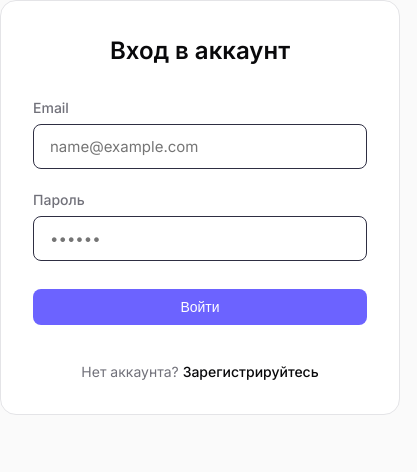
Test: Компонент LoginForm › показывает ошибку при вводе некорректного пароля или логина
The image size is (417, 472).
Type "name@example.cOm" into the field labelled "Email" at (200, 146), box [33,124,367,169]
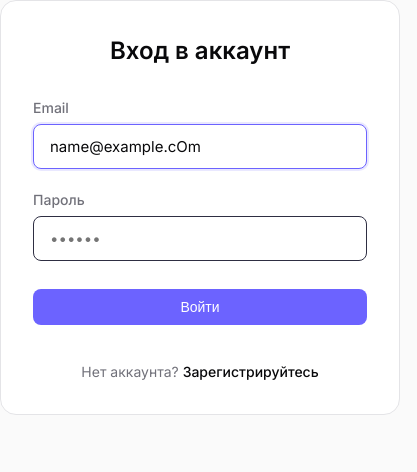
Type "123456" into the password field labelled "Пароль" at (200, 238), box [33,216,367,261]
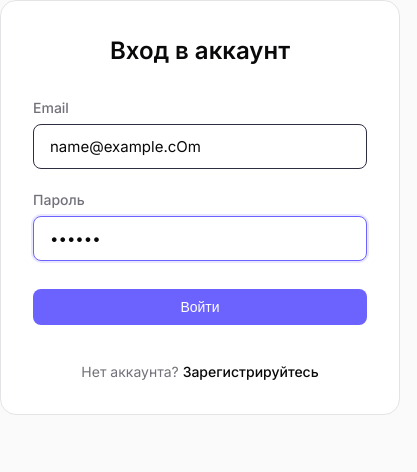
Click the button "Войти" at (200, 307), box [33,289,367,325]
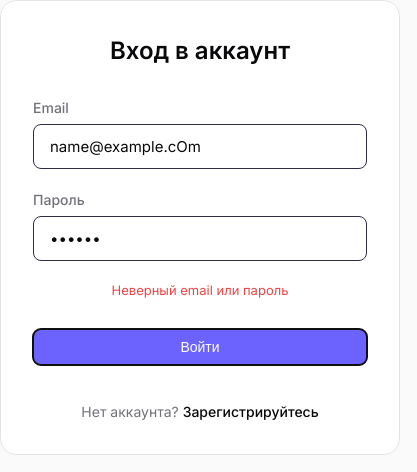
Now the text "Неверный email или пароль" is shown, box [112,282,288,298]
